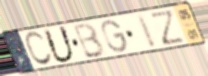B: (72, 21, 107, 60)
C: (23, 30, 54, 68)
G: (100, 19, 129, 54)
I: (135, 13, 159, 50)
U: (41, 25, 77, 65)
Z: (148, 8, 187, 47)
